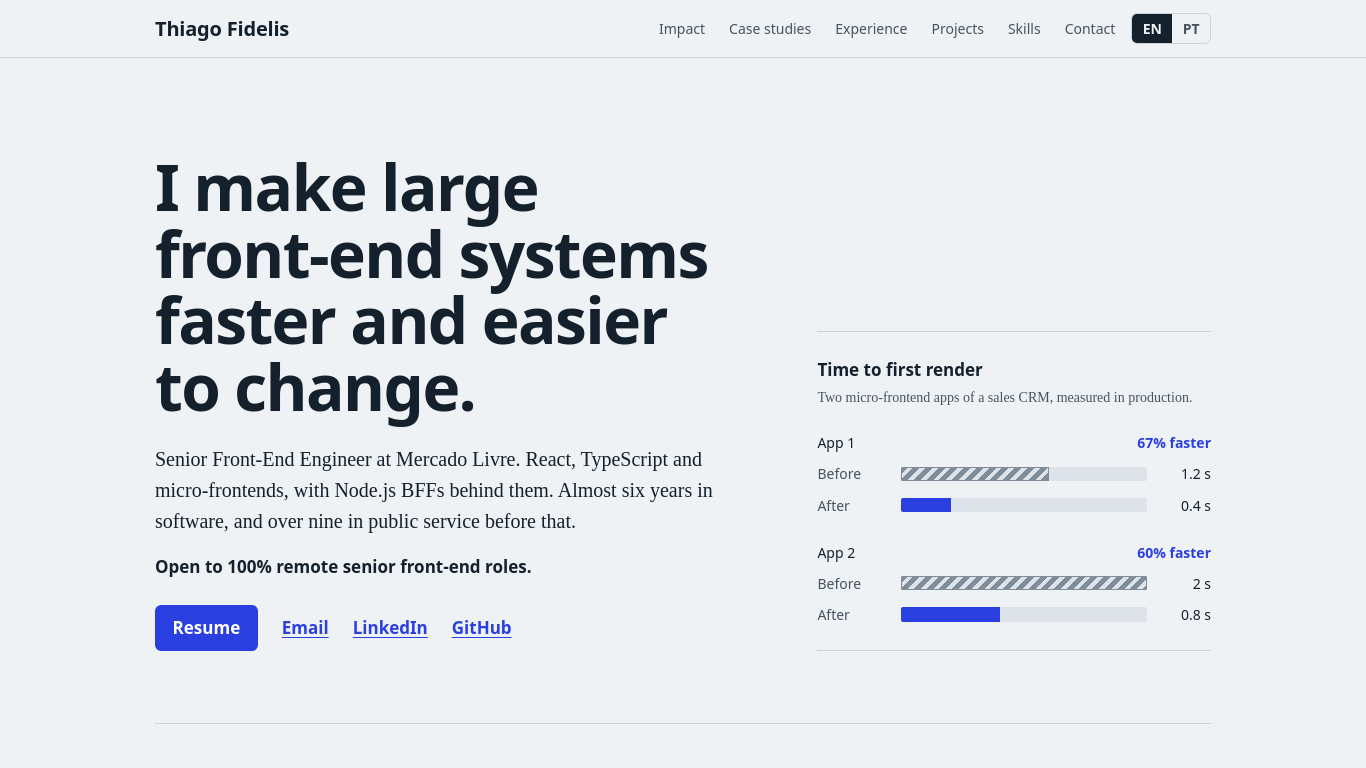
Test: App › switches to Portuguese and remembers the choice
Click the button with aria-label "Português": (1191, 28) x1=1172 y1=14 x2=1210 y2=43
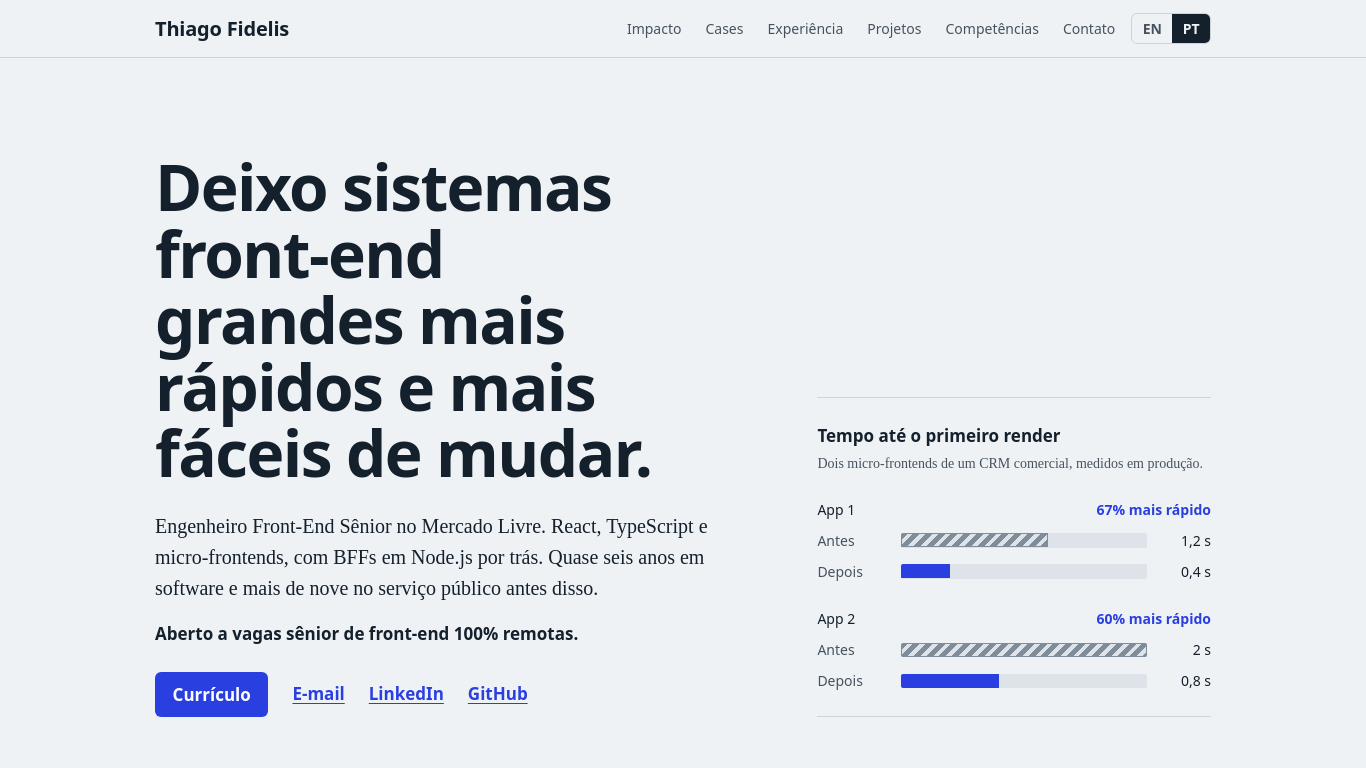
Check: the heading reads "Deixo sistemas front‑end grandes mais rápidos e mais fáceis de mudar.", box x1=155 y1=143 x2=652 y2=496
